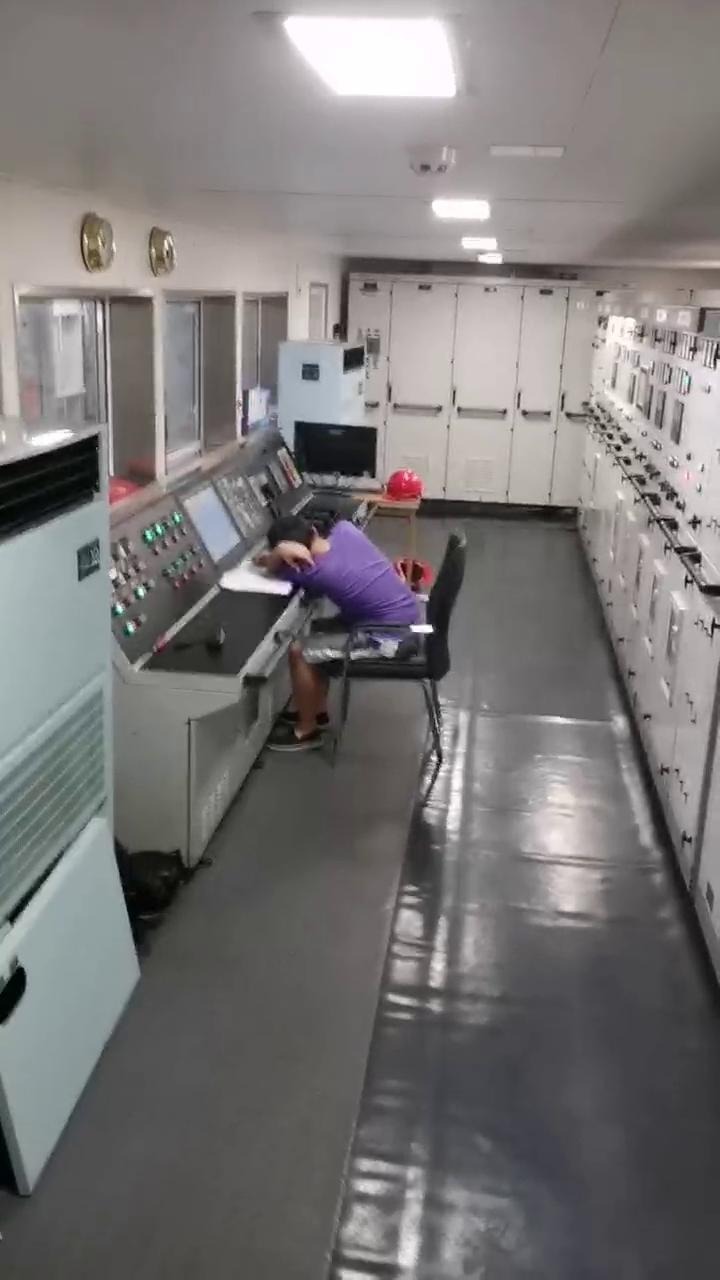sleep: (262, 513, 431, 668)
